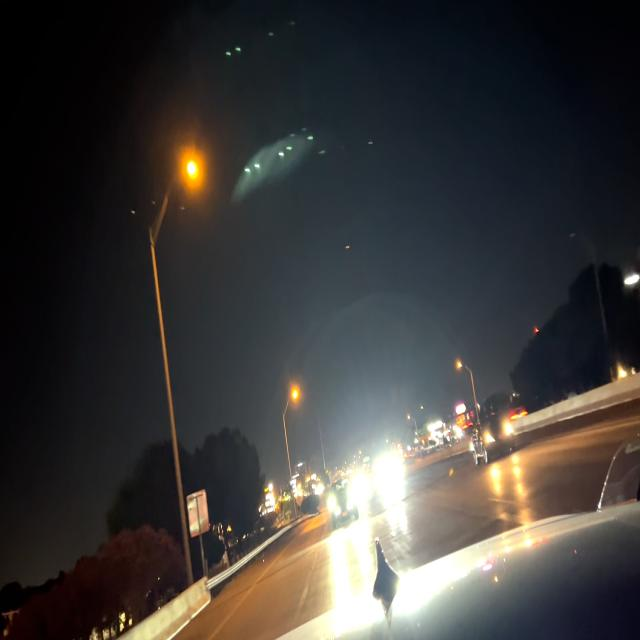back-of-sign: (185, 491, 212, 539)
